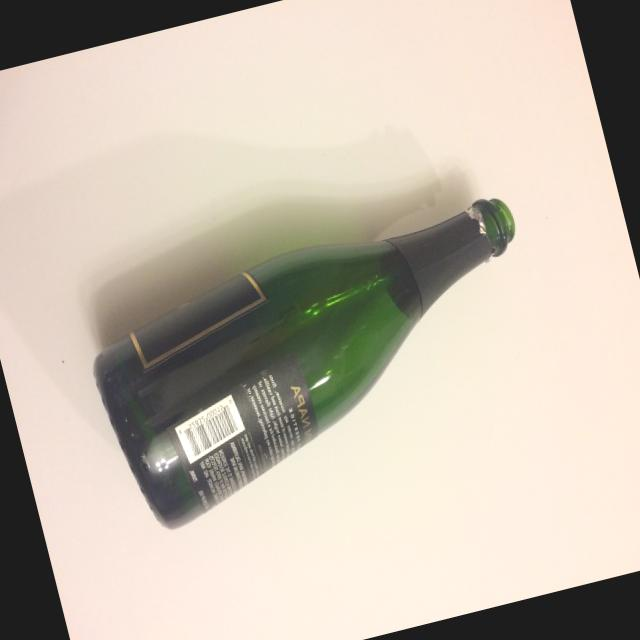Glass: (71, 184, 574, 544)
